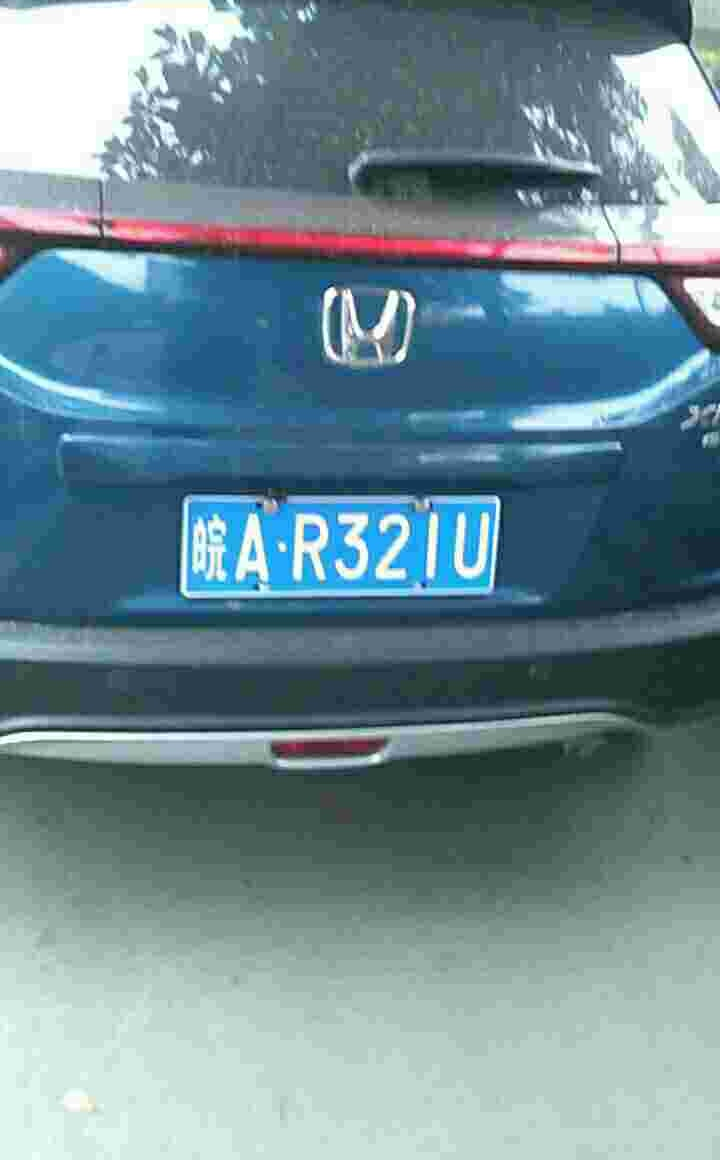license_plate: (196, 496, 509, 599)
